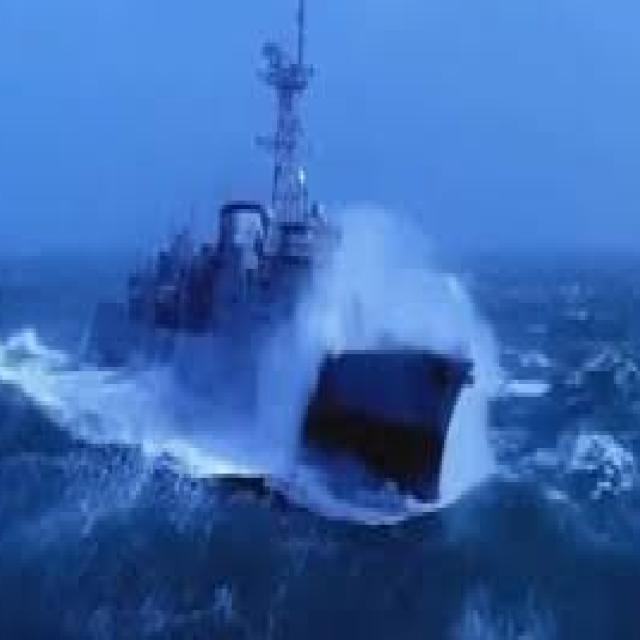navalvessels: (83, 0, 516, 512)
